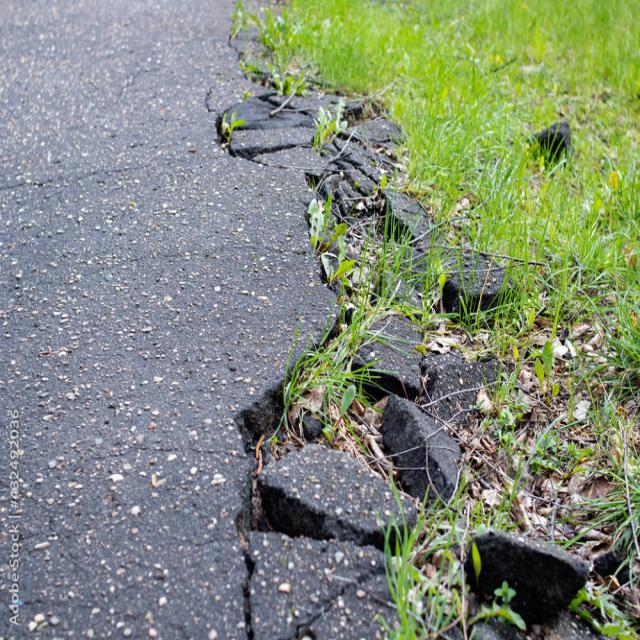Pothole: (153, 19, 640, 640)
